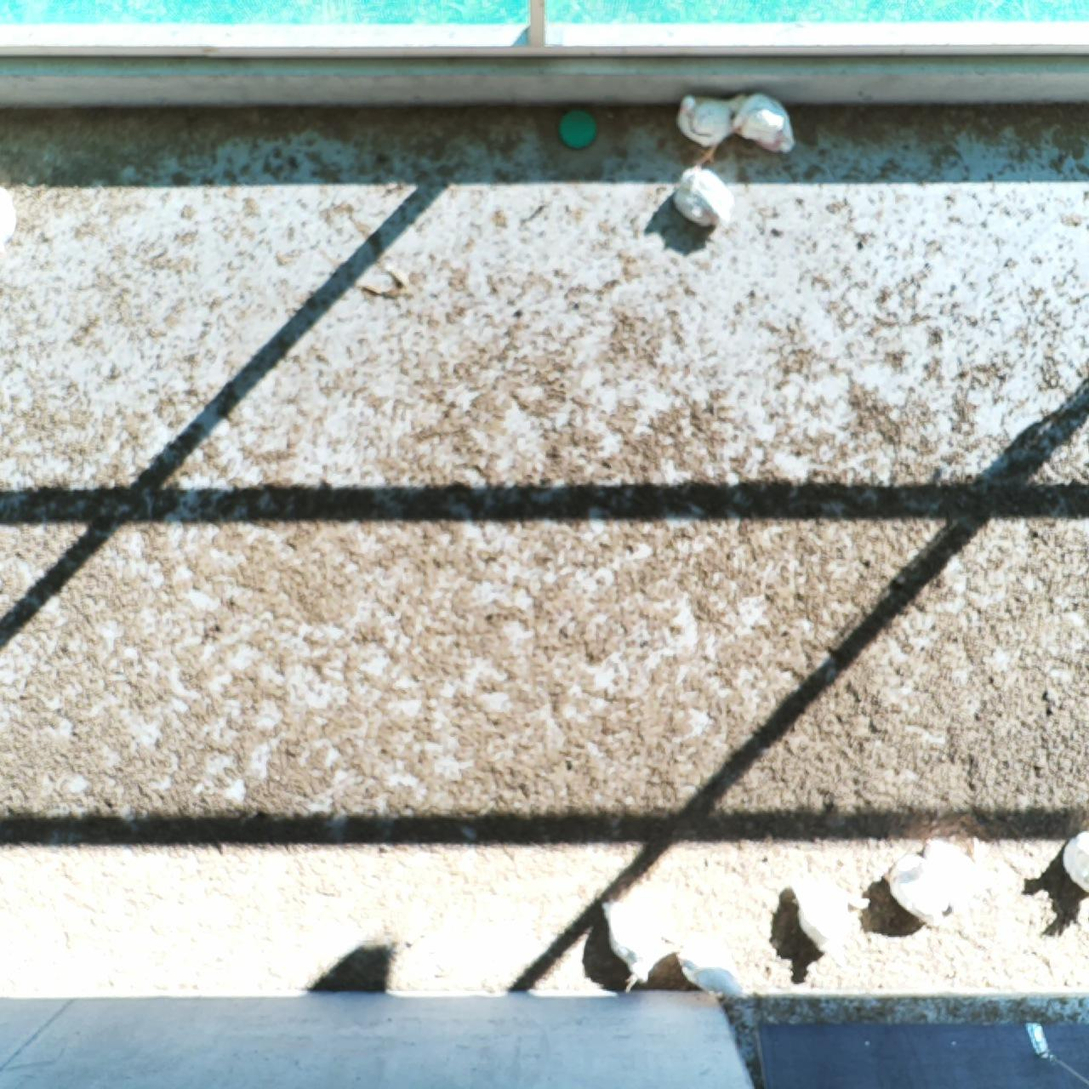chicken: (600, 889, 699, 987), (882, 835, 982, 932), (784, 869, 868, 955), (669, 917, 752, 1002), (673, 88, 742, 164), (729, 84, 797, 156), (675, 164, 734, 233), (1063, 822, 1089, 903)
